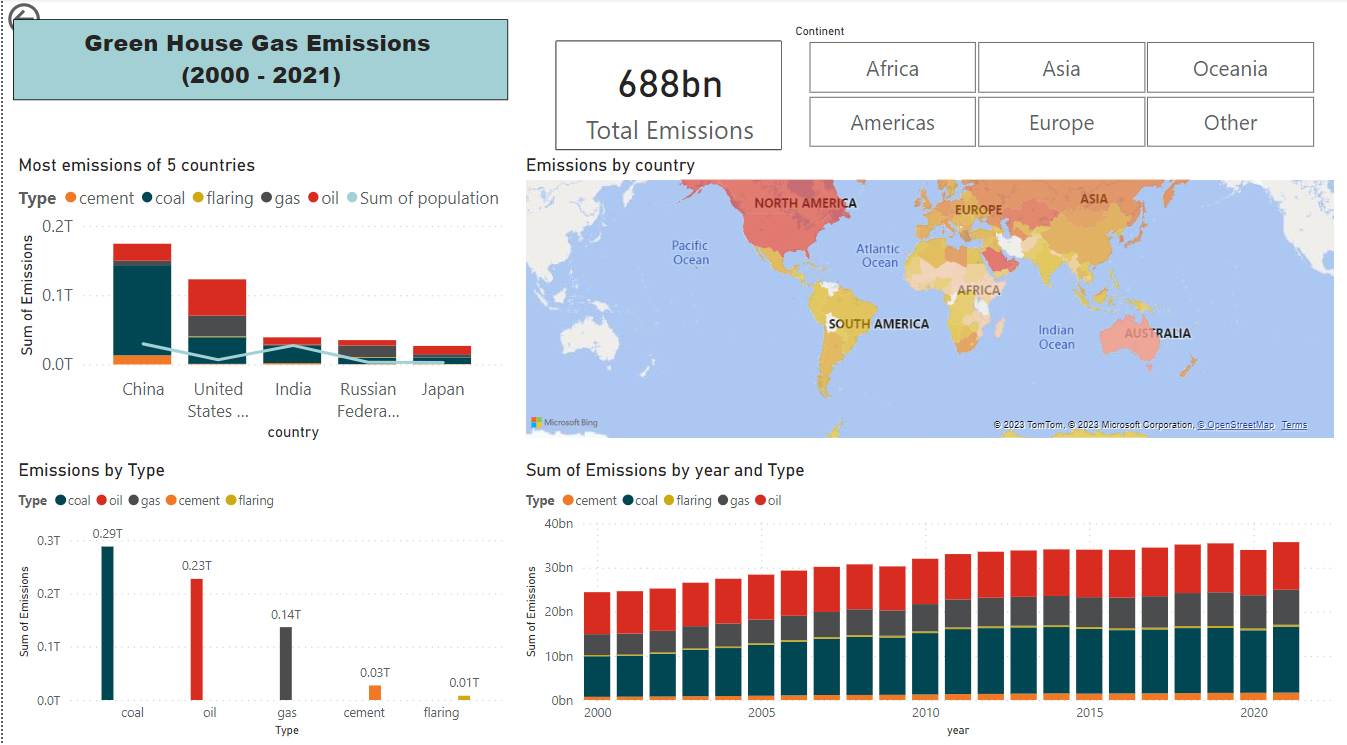

The page's visual inventory and layout, read from the dashboard file:
{"tool":"powerbi","page":{"name":"Overview","canvas":[1280,720],"ordinal":0},"visuals":[{"type":"actionButton","box":[0,0,100,40],"z":0},{"type":"clusteredColumnChart","title":"Emissions by Type","fields":{"Category":["Emissions Data.Type"],"Y":["Sum(Emissions Data.Emissions)"],"Series":["Emissions Data.Type"]},"box":[9.5,437.4,469.4,267.9],"z":1000},{"type":"columnChart","fields":{"Category":["Emissions Data.year"],"Y":["Sum(Emissions Data.Emissions)"],"Series":["Emissions Data.Type"]},"box":[490.8,437.4,776.4,267.9],"z":2000},{"type":"lineStackedColumnComboChart","title":"Most emissions of 5 countries","fields":{"Category":["countryContinent.country"],"Y":["Sum(Emissions Data.Emissions)"],"Y2":["Sum(Country Data.population)"],"Series":["Emissions Data.Type"]},"box":[9.5,148.2,469.4,276.2],"z":3000},{"type":"card","fields":{"Values":["Sum(Emissions Data.Emissions)"]},"box":[523.9,40.3,214.6,104.3],"z":4000},{"type":"filledMap","title":"Emissions by country","fields":{"Category":["countryContinent.country"]},"box":[490.8,148.2,776.4,273.8],"z":5000},{"type":"slicer","fields":{"Values":["countryContinent.continent"]},"box":[738.5,20.2,528.7,128],"z":6000},{"type":"textbox","box":[9.5,20.2,469.4,77.1],"z":6001}]}

Visuals, with their boxes in screenshot pixels (x1, y1, x2, y2), scaled from the page's 1280x720 canvas onto the 1347x745 screenshot:
actionButton: bbox(0, 0, 105, 41)
"Emissions by Type" clusteredColumnChart: bbox(10, 453, 504, 730)
columnChart - Emissions Data.year x Sum(Emissions Data.Emissions): bbox(516, 453, 1334, 730)
"Most emissions of 5 countries" lineStackedColumnComboChart: bbox(10, 153, 504, 439)
card - Sum(Emissions Data.Emissions): bbox(551, 42, 777, 150)
"Emissions by country" filledMap: bbox(516, 153, 1334, 437)
slicer - countryContinent.continent: bbox(777, 21, 1334, 153)
textbox: bbox(10, 21, 504, 101)
